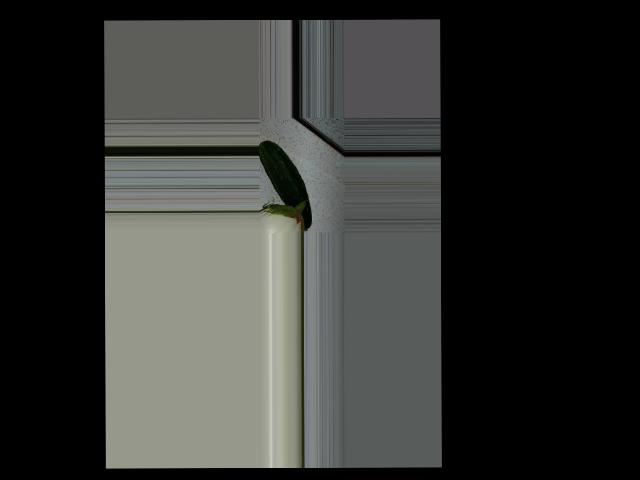cucumber: (258, 140, 311, 231)
